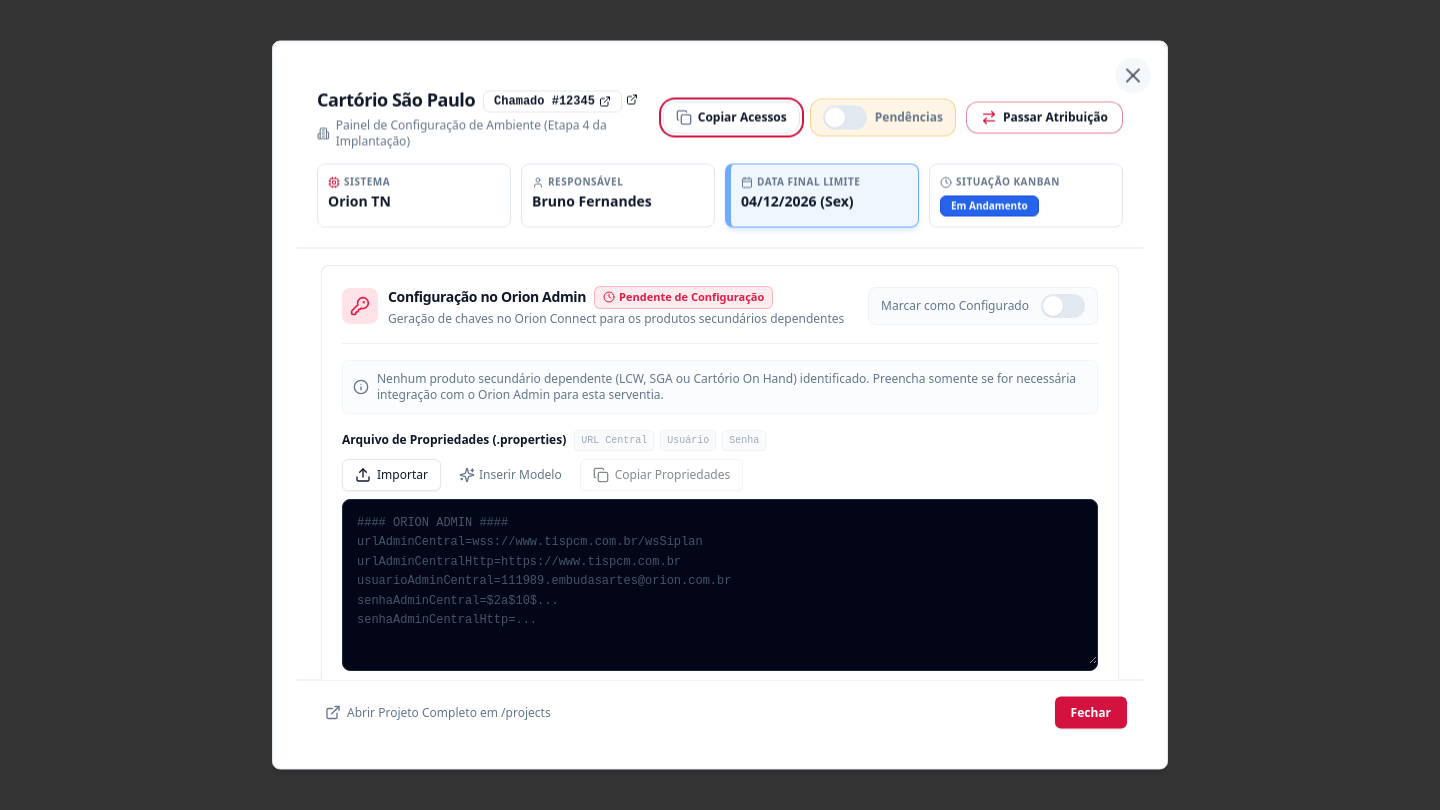
Scenario: DeploymentsEnvironmentConfig Page and Modal › no modal: deve conter o botão 'Copiar Acessos' e a seção 'Histórico & Timeline do Ambiente'
Click the button "Copiar Acessos".
click(731, 118)  # box [663,102,800,134]
(page scrolled)
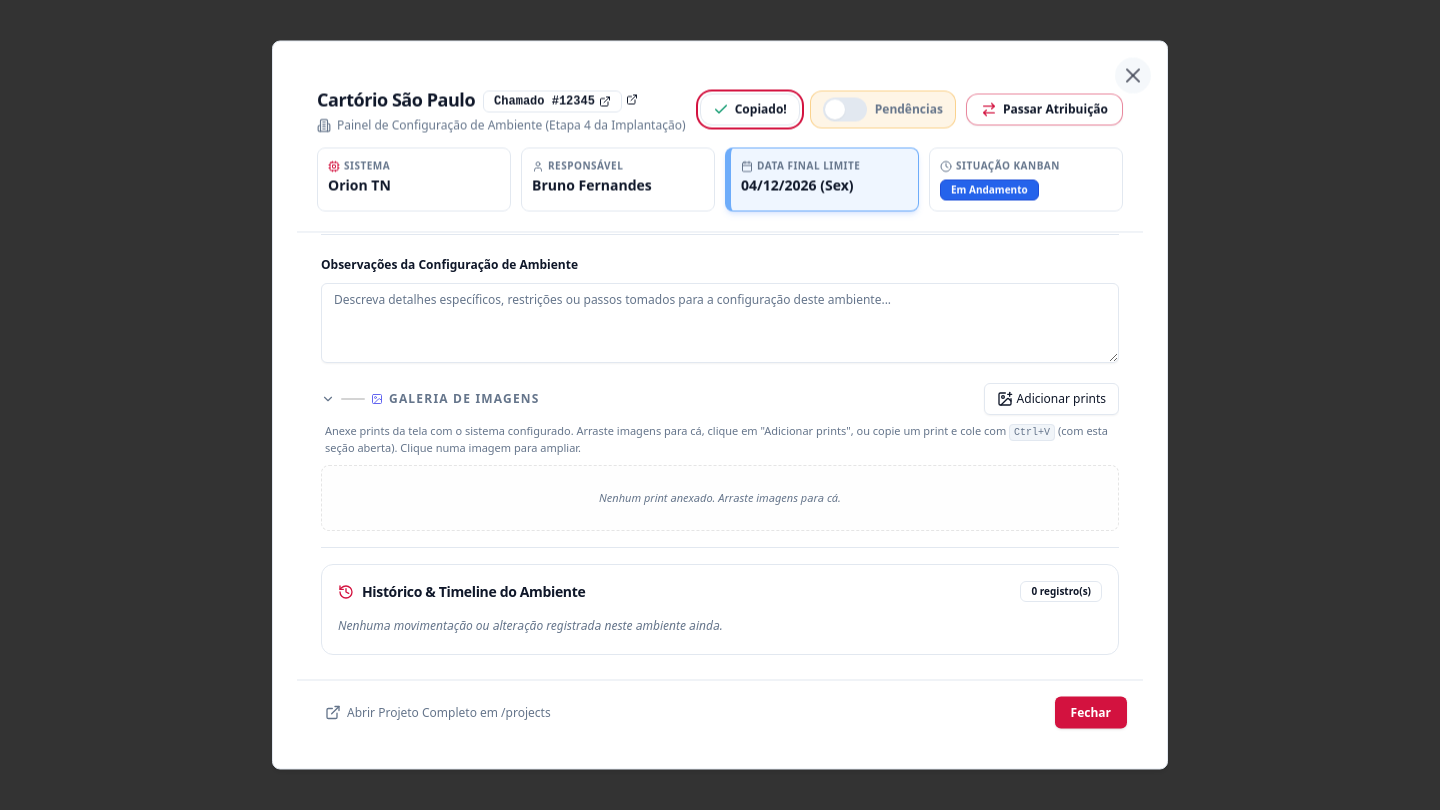
Result: the heading "Histórico & Timeline do Ambiente" is shown at [338,582,585,602]
